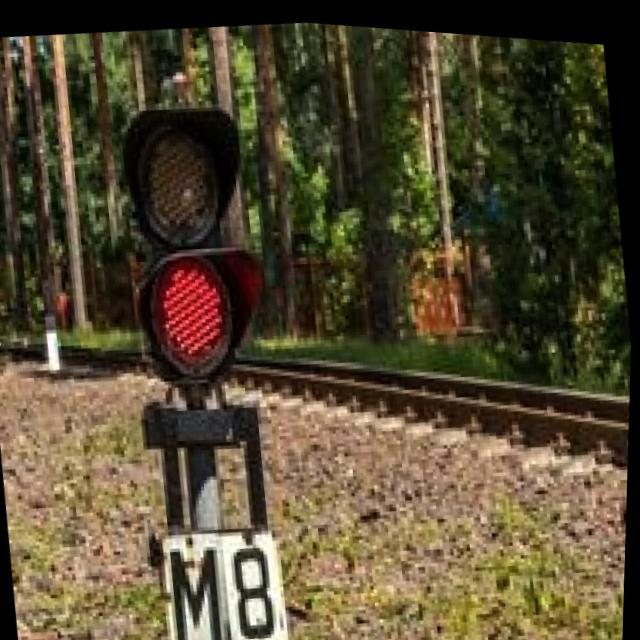red_light: (111, 228, 276, 393)
